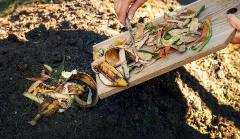organic: (88, 45, 134, 91), (34, 92, 72, 124), (100, 109, 131, 133), (203, 16, 217, 56)
